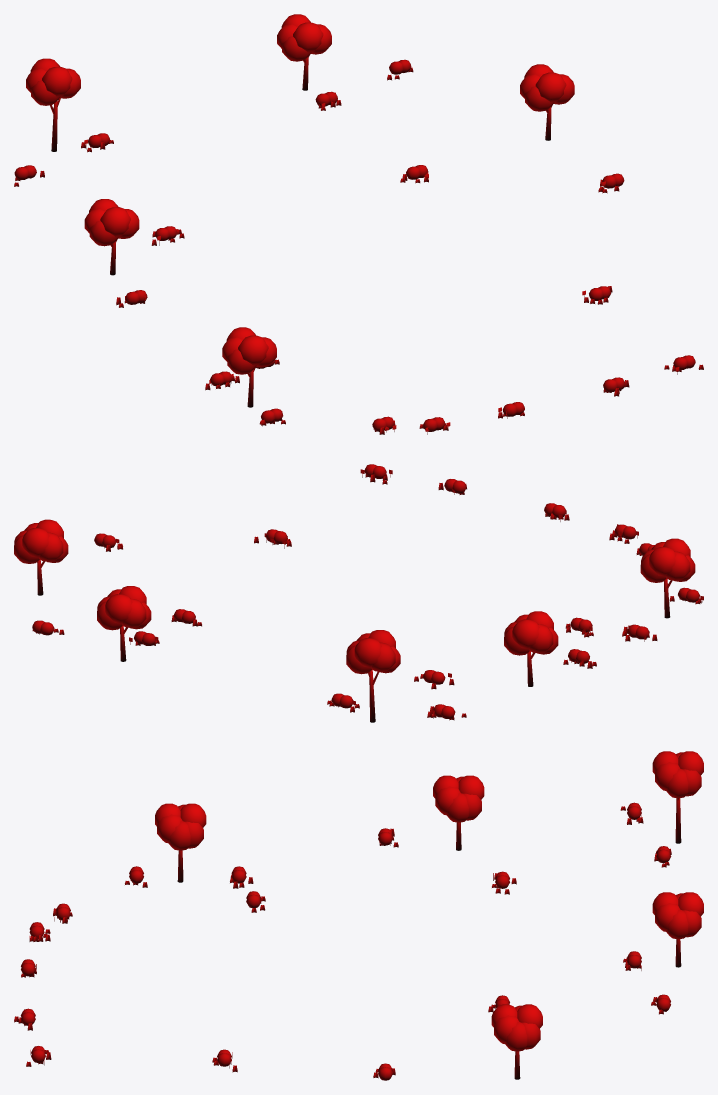
File: Vegetation.glb
3 renders of one model, top to bottom at view 1: azimuth 30°, elevation 25°; view 2: azimuth 150°, elevation 25°; view 3: azimuth 270°, elevation 25°, orthographic.
Parts seen in each view (by area): view 1: Vegetation_Feuillage, Vegetation_Buissons, Vegetation_Herbe, Vegetation_Troncs; view 2: Vegetation_Feuillage, Vegetation_Buissons, Vegetation_Herbe, Vegetation_Troncs, Vegetation_Fleurs; view 3: Vegetation_Feuillage, Vegetation_Buissons, Vegetation_Herbe, Vegetation_Troncs.
Boxes of the visible parts, left/top/right/bottom form: Vegetation_Feuillage: left=26, top=14, right=574, bottom=374; Vegetation_Buissons: left=14, top=59, right=695, bottom=431; Vegetation_Herbe: left=14, top=67, right=703, bottom=434; Vegetation_Troncs: left=50, top=55, right=552, bottom=407; Vegetation_Feuillage: left=14, top=519, right=695, bottom=674; Vegetation_Buissons: left=32, top=464, right=699, bottom=718; Vegetation_Herbe: left=32, top=474, right=701, bottom=720; Vegetation_Troncs: left=37, top=559, right=672, bottom=722; Vegetation_Fleurs: left=39, top=469, right=703, bottom=718; Vegetation_Feuillage: left=155, top=751, right=703, bottom=1051; Vegetation_Buissons: left=20, top=802, right=671, bottom=1080; Vegetation_Herbe: left=14, top=806, right=671, bottom=1078; Vegetation_Troncs: left=177, top=798, right=681, bottom=1079.
Size of the model in its own units: 41.42 by 11.5 by 47.13.
